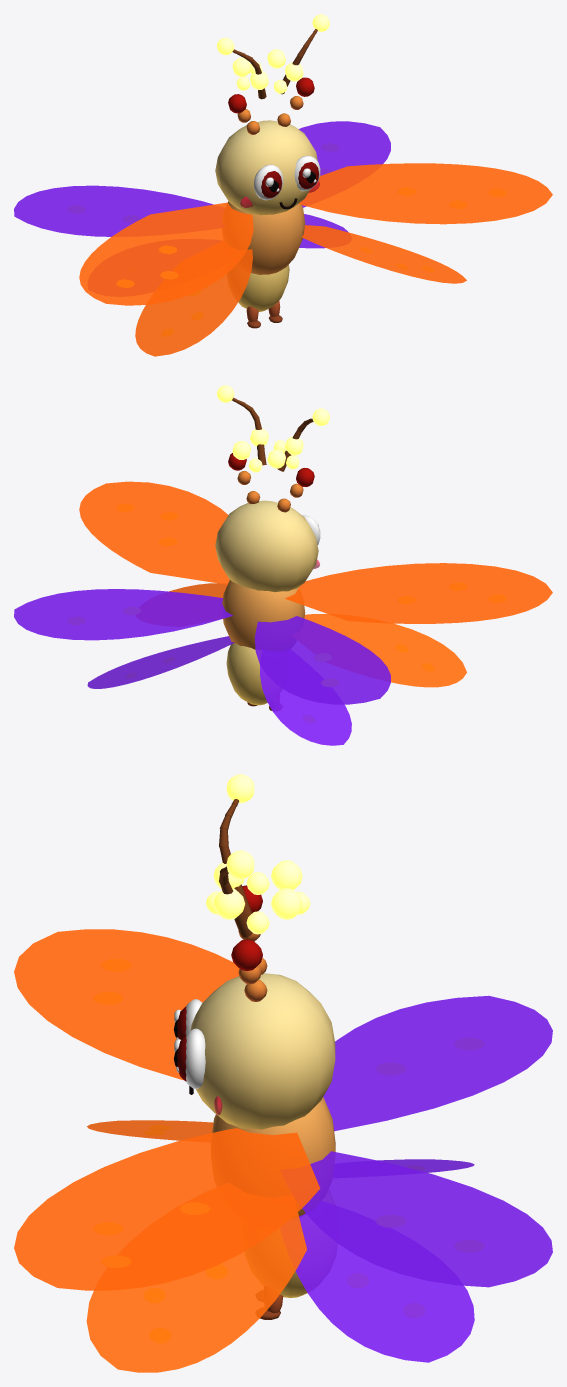
The model's file is krylosha_form3.glb.
3 renders of one model, top to bottom at view 1: azimuth 30°, elevation 25°; view 2: azimuth 150°, elevation 25°; view 3: azimuth 270°, elevation 25°, orthographic. The views are drawn at different scales.
Visible parts, largest first — view 1: krylosha_form3, object 2; view 2: krylosha_form3; view 3: krylosha_form3, object 7.
Part boxes in pixels (x1=…): krylosha_form3: x1=14, y1=14, x2=552, y2=356; object 2: x1=254, y1=164, x2=283, y2=200; krylosha_form3: x1=14, y1=385, x2=552, y2=745; krylosha_form3: x1=14, y1=774, x2=552, y2=1372; object 7: x1=185, y1=1028, x2=205, y2=1088.
Bounding box in the file's own units: 3.3 × 2.11 × 2.08.
